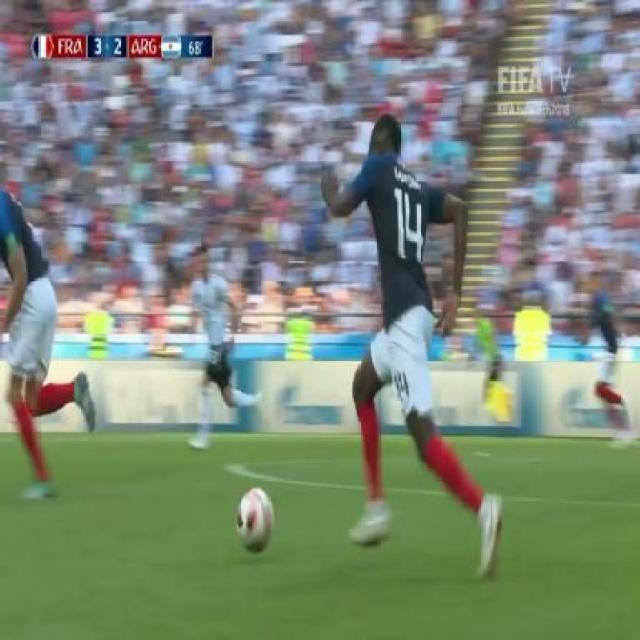ball: (230, 480, 279, 559)
player: (309, 76, 488, 576), (0, 173, 85, 507), (172, 227, 260, 463), (585, 281, 630, 437)
